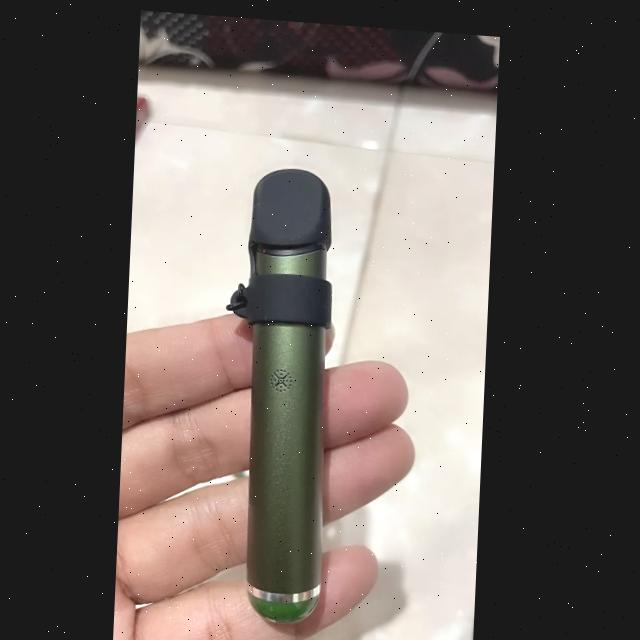vape: (235, 160, 339, 623)
